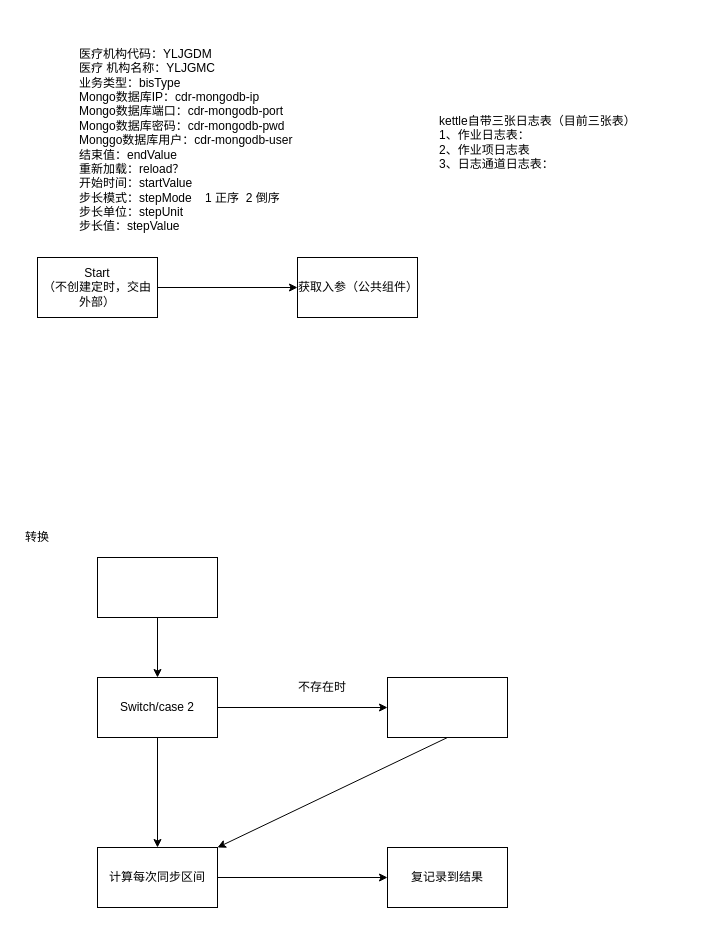
Image size: 704x925. Some labels were removed from this diagram. The shapes that lost their labels are listed below. From the top down, each one's centre as x and y in pixels, then its label:
(x=157, y=587): 判断同步配置是否存在（从kettle_syn_job_set中获取）
(x=447, y=707): 插入/更新2
